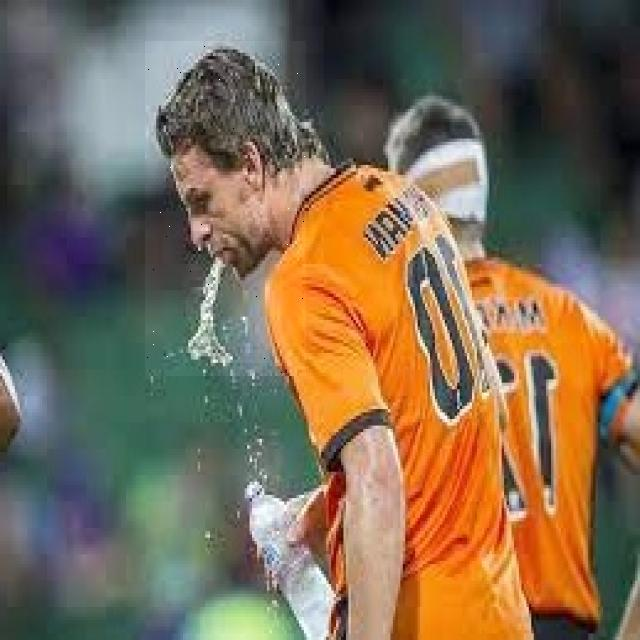Spitting: (146, 41, 308, 376)
